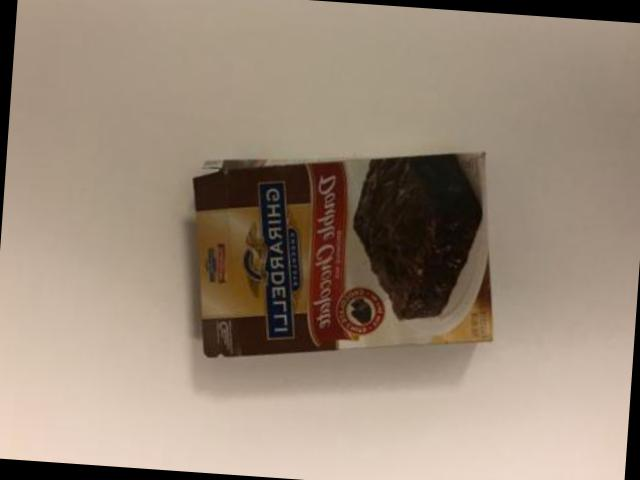cardboard paper: (191, 155, 487, 356)
